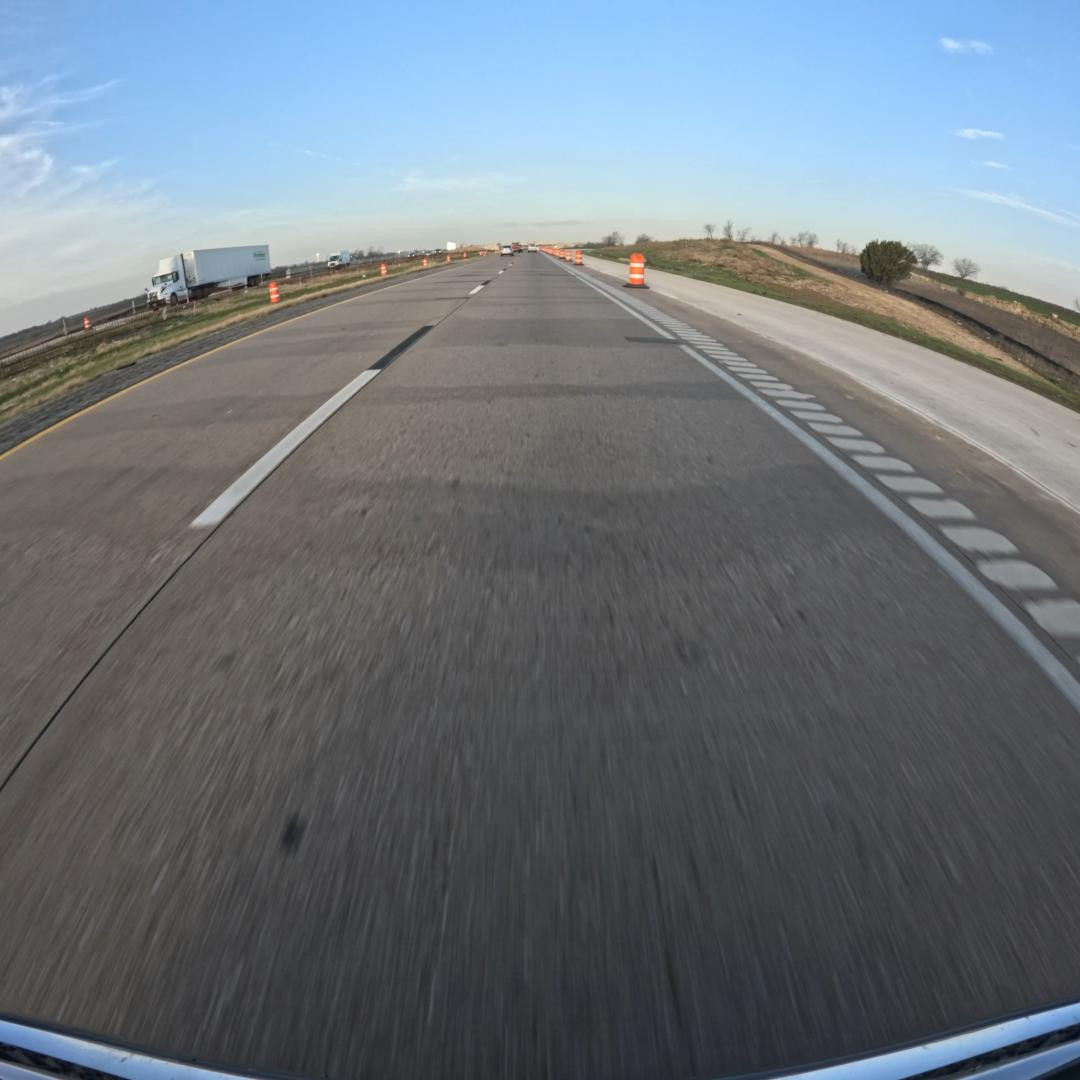lane0: (0, 257, 1080, 1077)
lane1: (0, 256, 516, 792)
